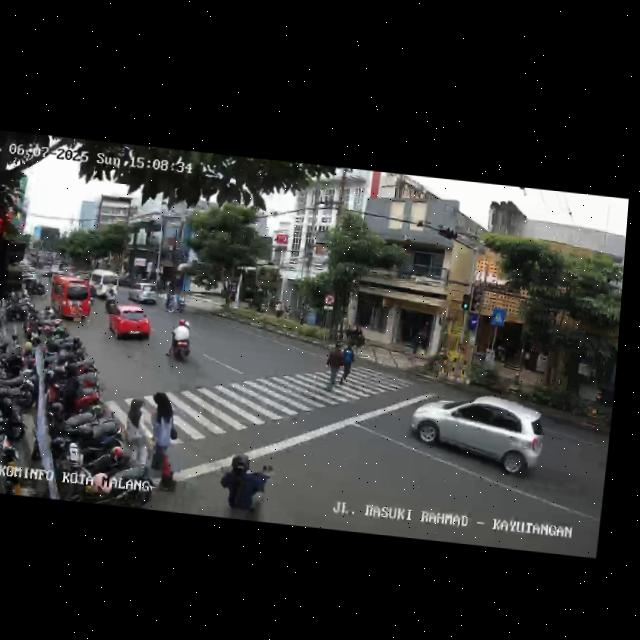car: (404, 384, 550, 486), (43, 271, 94, 324), (106, 302, 154, 346), (126, 280, 160, 307), (89, 268, 119, 297), (19, 270, 48, 296)
motorcycle: (214, 449, 274, 522), (166, 318, 195, 365), (104, 285, 120, 314)
person: (142, 386, 184, 473), (119, 397, 149, 473), (335, 341, 357, 394), (322, 338, 342, 392)
